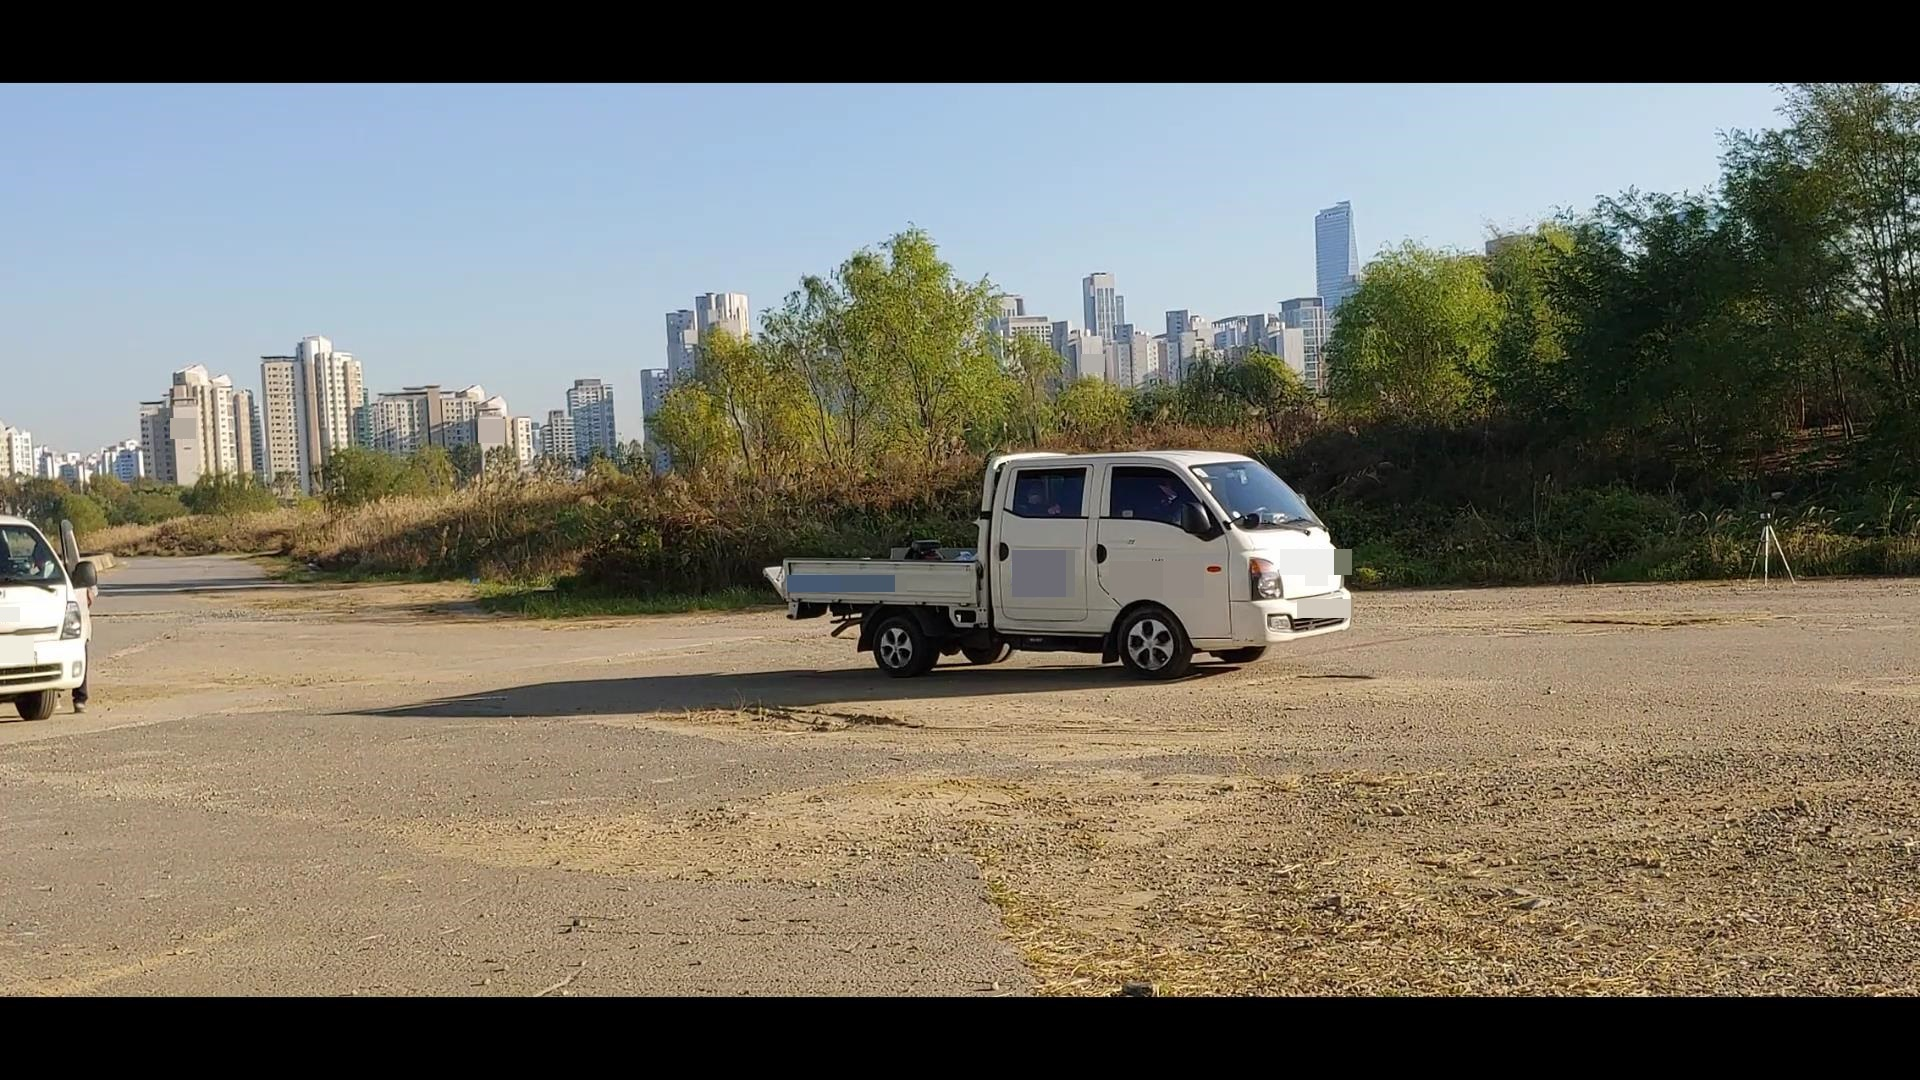불법차량: (762, 451, 1350, 682)
